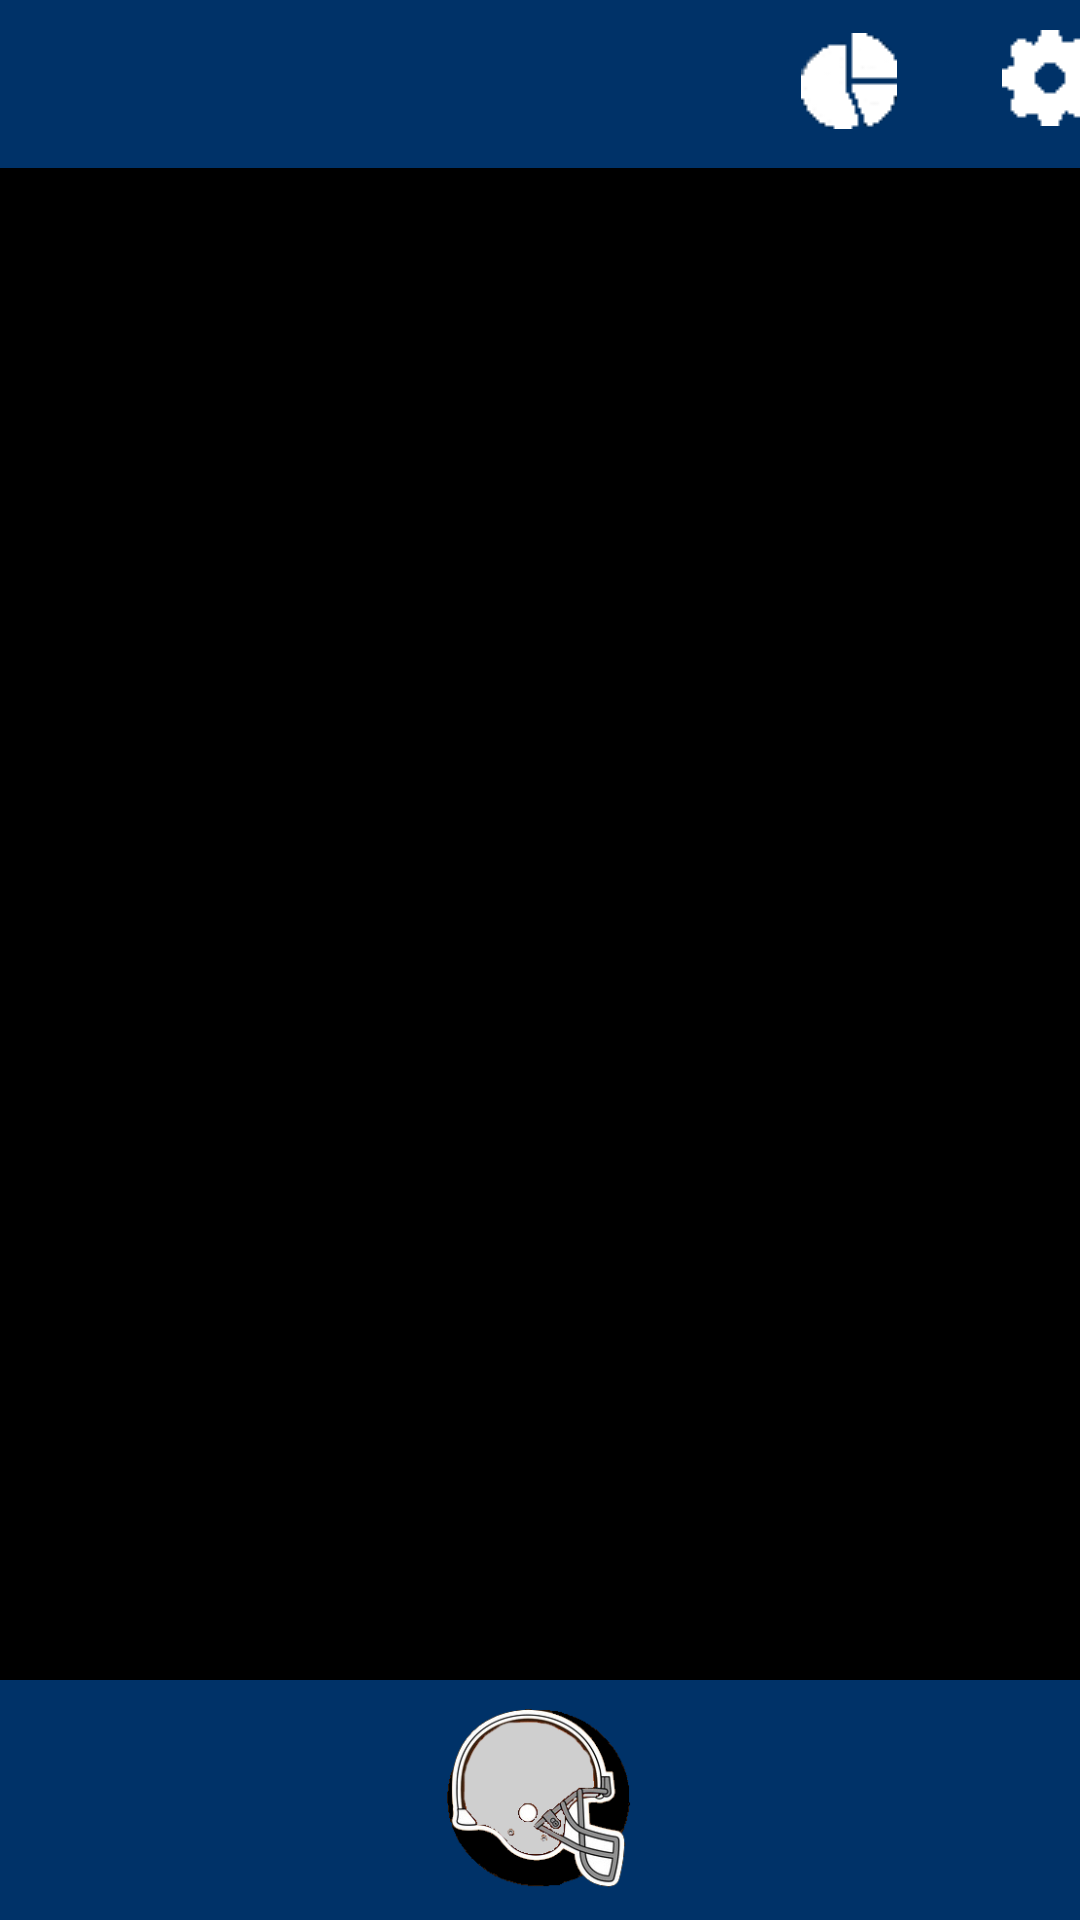

Icons on this 1080px×1920px Android screen, each with the point to tap as [x,y]:
helmet: [538,1798]
